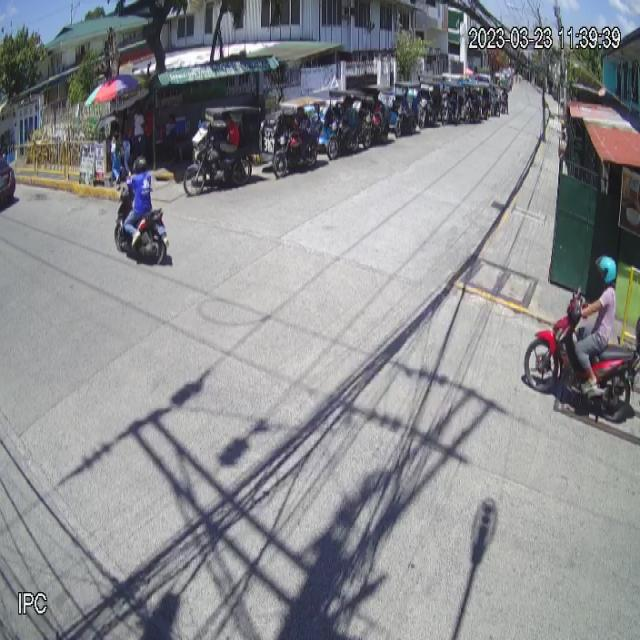Motorcycle: (522, 284, 636, 419), (112, 185, 172, 268)
